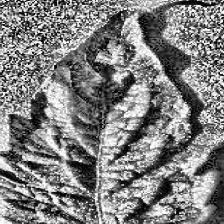spider mites: (0, 7, 218, 224)
